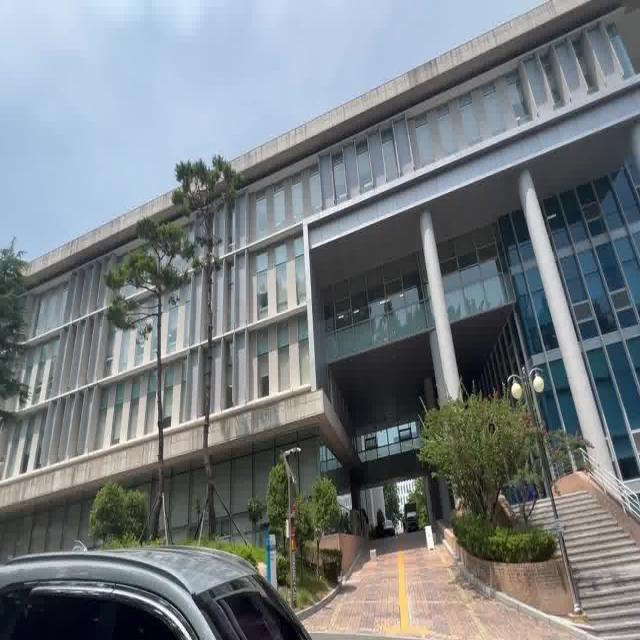building: (61, 0, 640, 407)
